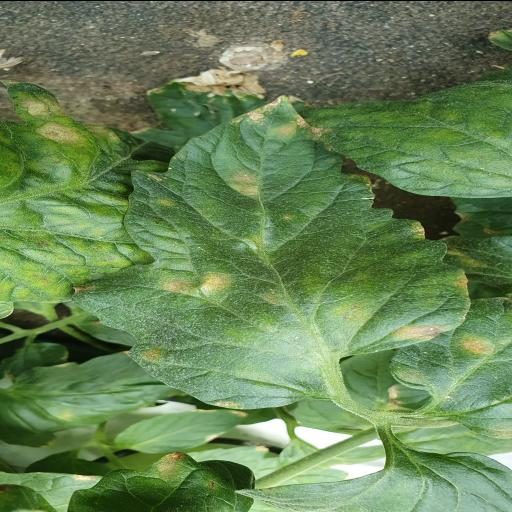disease_tomato: (66, 92, 475, 408)
